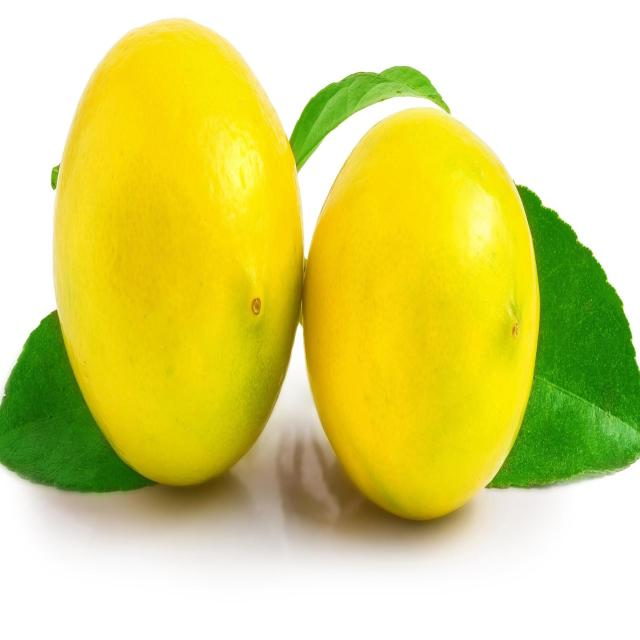lemon: (44, 6, 306, 496)
